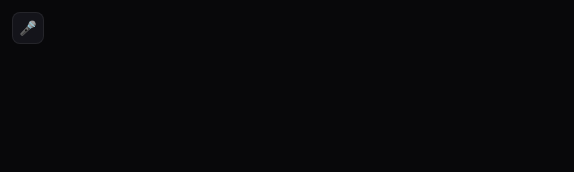
Scenario: the voice button › says plainly, in Uzbek, when the microphone is refused
Click the button named "ovozli buyruq". click: (28, 28)
box: [12,12,44,44]
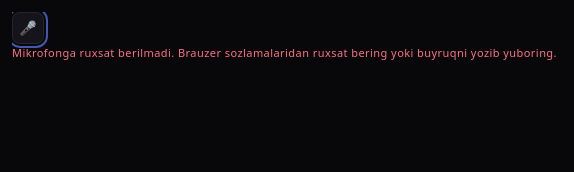
Expected: the message shows "Mikrofon", [12,45,557,60]
Expected: the message shows "ruxsat", [12,45,557,60]
